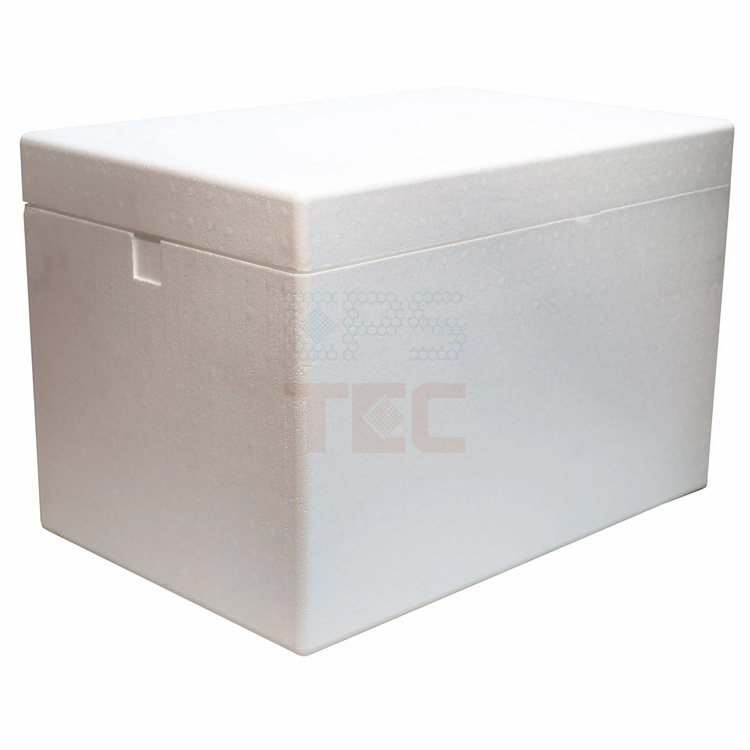Boxes: (21, 94, 734, 653)
